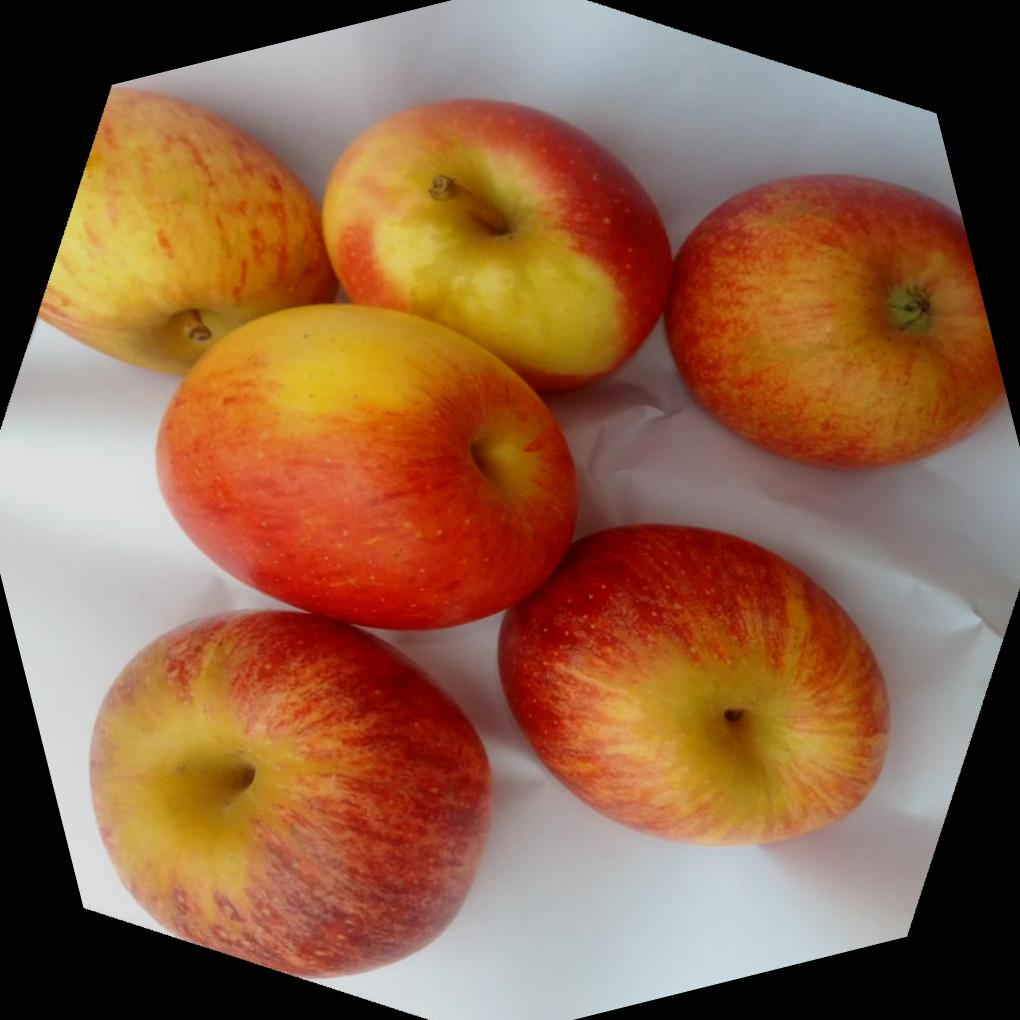FreshGuava: (40, 87, 1008, 986)
